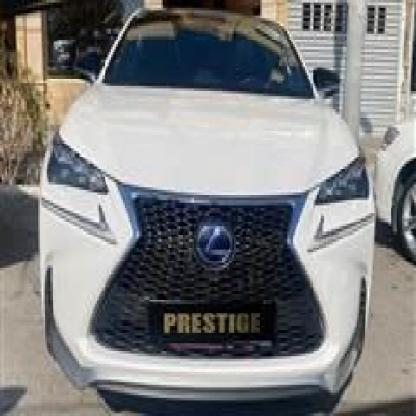Car: (40, 2, 373, 416), (369, 109, 416, 265)
